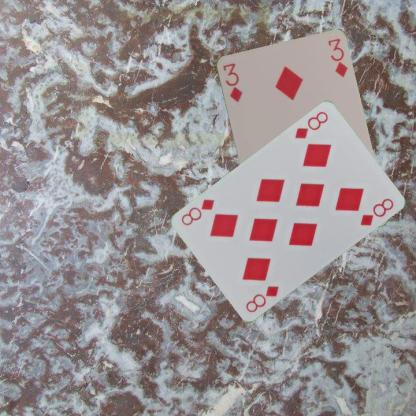3d: (220, 60, 243, 104)
8d: (243, 283, 280, 314), (292, 110, 329, 140)
